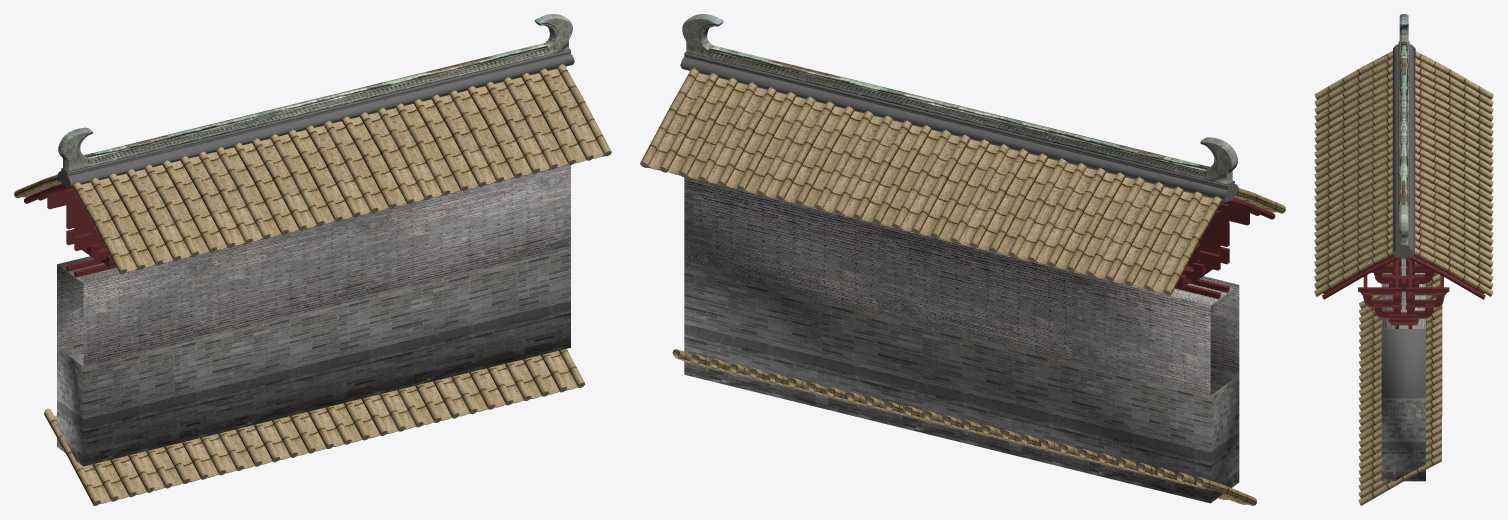
File: gujian8.glb
3 renders of one model, left to right at view 1: azimuth 30°, elevation 25°; view 2: azimuth 150°, elevation 25°; view 3: azimuth 270°, elevation 25°, orthographic. The views are drawn at different scales.
Parts seen in each view (by area): view 1: Object2977, Object2969, Object2970, Object2971, Object2976, Mesh170; view 2: Object2977, Object2969, Object2970, Object2971, Object2976, Mesh170; view 3: Object2977, Mesh170, Object2970, Object2969, Object2976, Object2971.
Part boxes in pixels (x1,y1,x2,y2): Object2977: (14,64,611,505); Object2969: (57,248,570,466); Object2970: (57,164,570,366); Object2971: (58,14,572,171); Object2976: (57,48,574,187); Mesh170: (24,155,604,277); Object2977: (640,68,1285,505); Object2969: (684,267,1239,503); Object2970: (684,176,1239,395); Object2971: (682,14,1237,184); Object2976: (680,51,1238,201); Mesh170: (648,167,1275,298); Object2977: (1314,51,1493,505); Mesh170: (1322,254,1485,328); Object2970: (1381,258,1425,397); Object2969: (1381,284,1426,481); Object2976: (1392,41,1415,258); Object2971: (1399,14,1408,245).
Bounding box in the file's own units: 12.59 × 8.36 × 4.59.
Materials: 6 (5 with a texture image).
